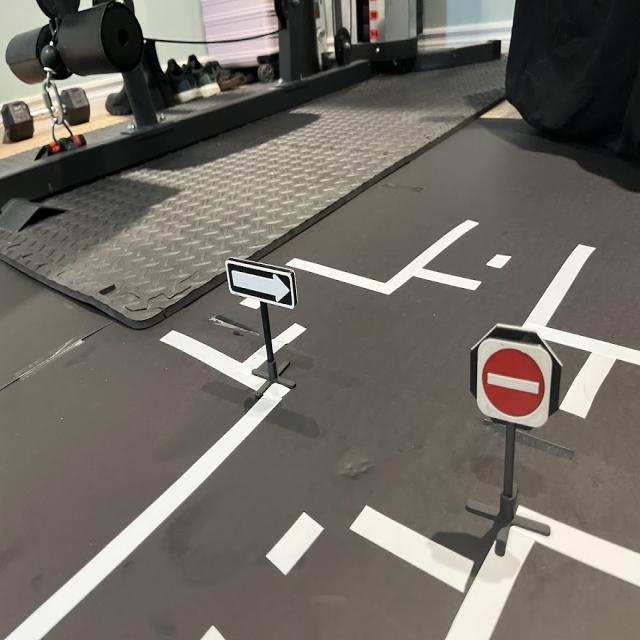sign_noentry: (475, 336, 559, 432)
sign_oneway_right: (223, 259, 301, 315)
